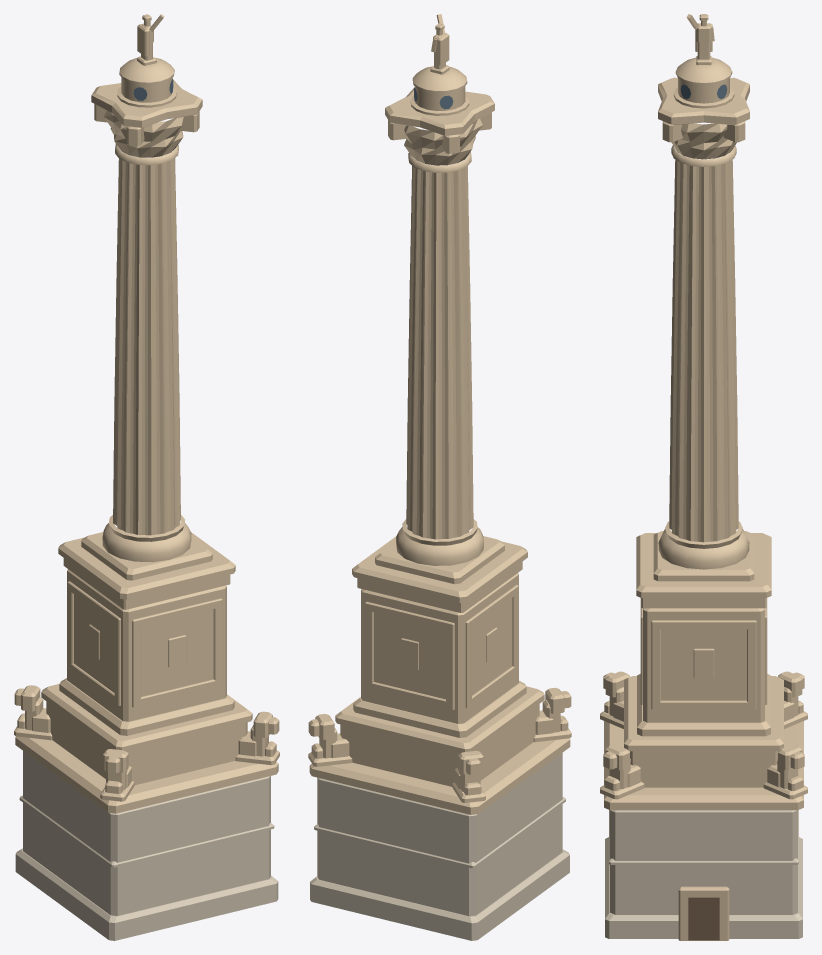
File: niagara-brocks-monument.glb
3 renders of one model, left to right at view 1: azimuth 30°, elevation 25°; view 2: azimuth 150°, elevation 25°; view 3: azimuth 270°, elevation 25°, orthographic. The views are drawn at different scales.
Visible parts, largest first — view 1: Brock's Monument; view 2: Brock's Monument; view 3: Brock's Monument.
Part boxes in pixels (box(x1,y1,x2,y2)): Brock's Monument: box(14, 14, 279, 940); Brock's Monument: box(308, 14, 571, 940); Brock's Monument: box(600, 14, 807, 940).
Bounding box in the file's own units: 11.96 × 56.22 × 11.96.
